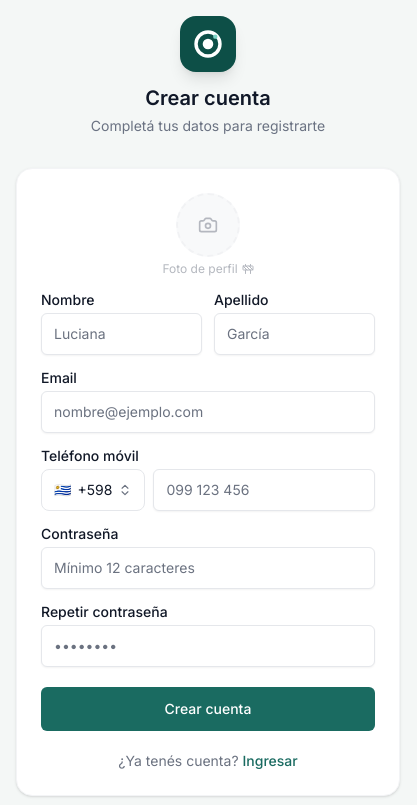
Test: RegisterPage › reports an email that is already registered
In the field labelled "Nombre": (122, 334) [41, 313, 202, 355], type "Ada"
In the field labelled "Apellido": (294, 334) [214, 313, 375, 355], type "Lovelace"
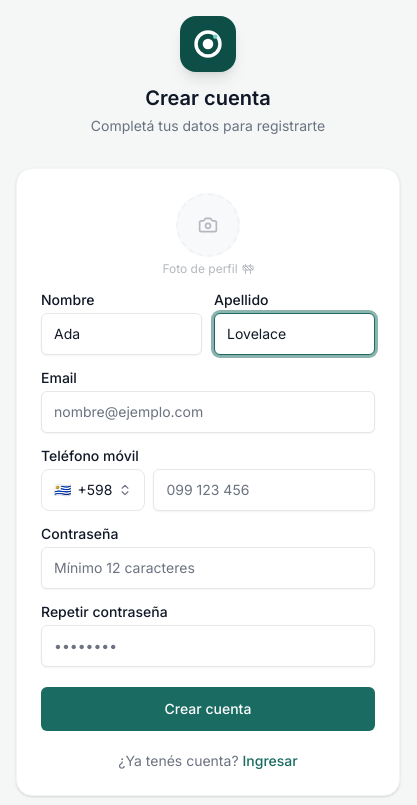
In the field labelled "Email": (208, 412) [41, 391, 375, 433], type "ada@example.com"
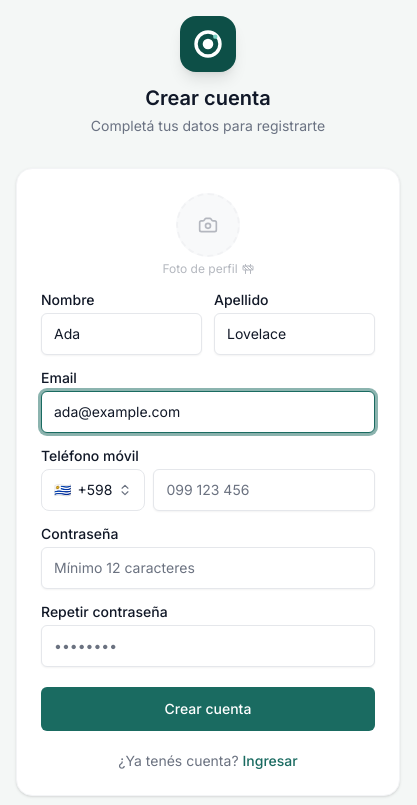
In the field labelled "Teléfono móvil": (264, 490) [153, 469, 375, 511], type "+5491122334455"
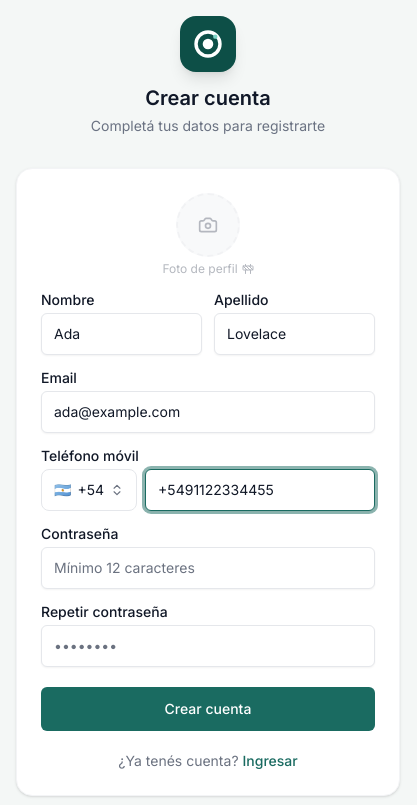
In the password field labelled "Contraseña": (208, 568) [41, 547, 375, 589], type "a-long-password"
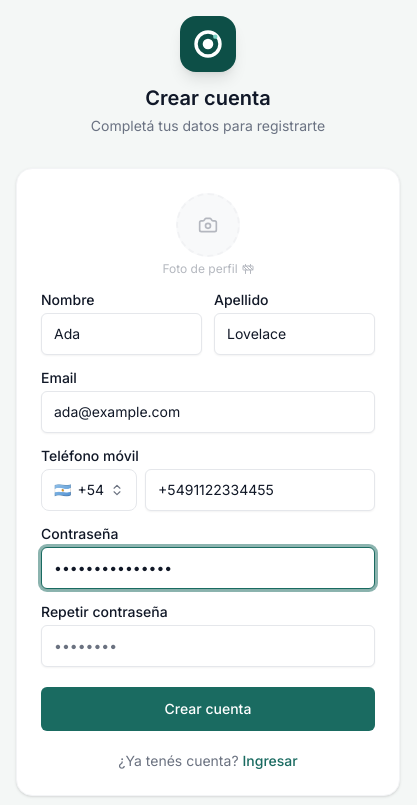
In the password field labelled "Repetir contraseña": (208, 646) [41, 625, 375, 667], type "a-long-password"
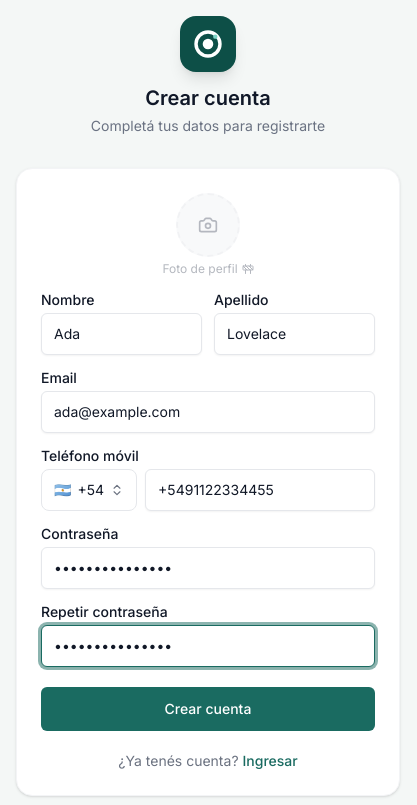
Click the button "Crear cuenta": click(208, 709) [41, 687, 375, 731]
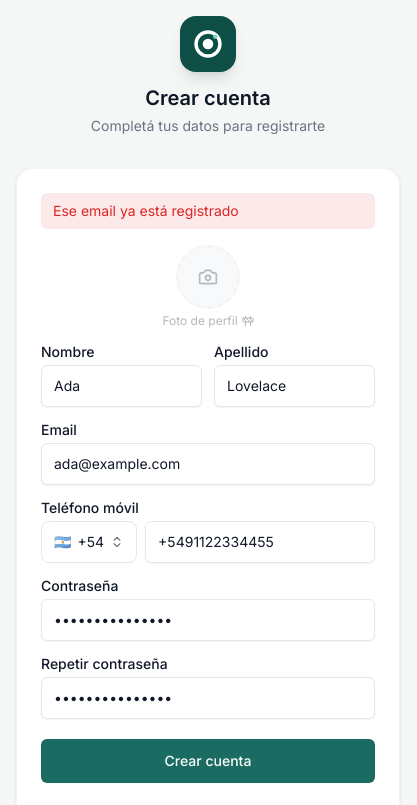
Check: the message reads "Ese email ya está registrado", box [53, 202, 239, 219]
